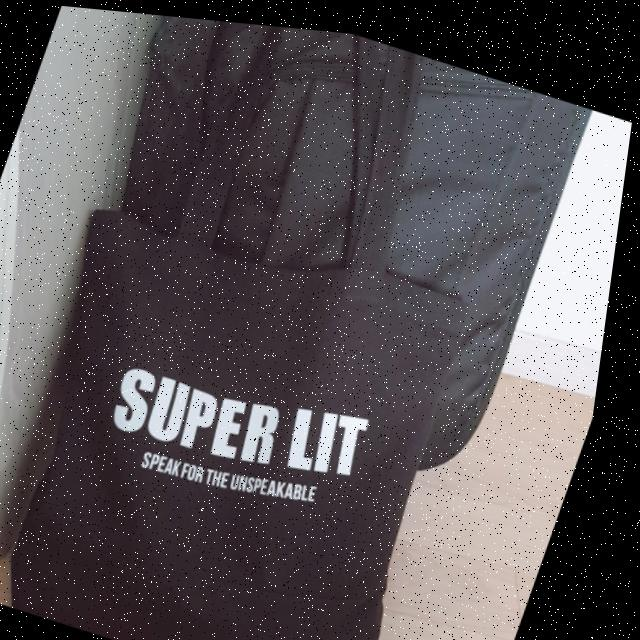ecobag: (0, 2, 609, 640)
